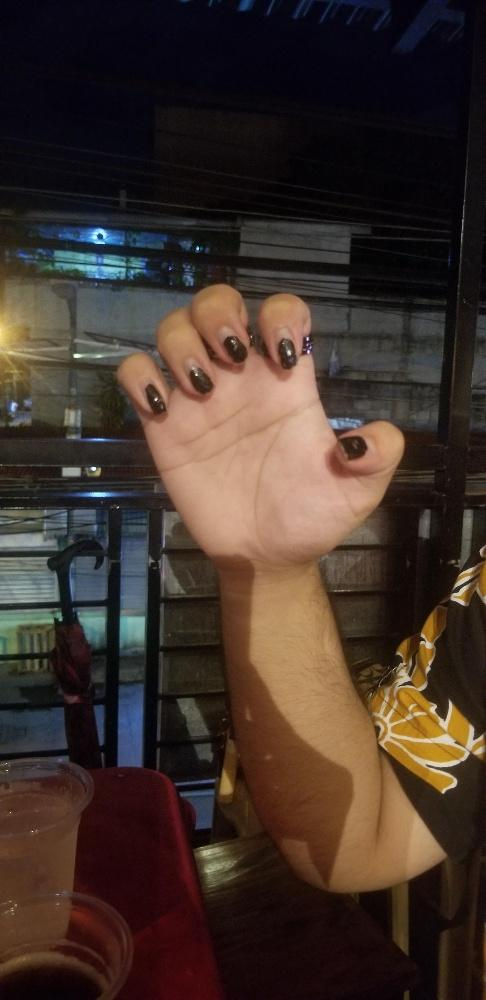e: (111, 280, 406, 560)
